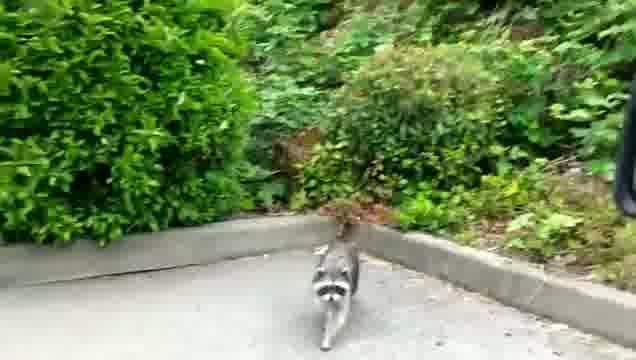raccoon: (310, 245, 363, 354)
